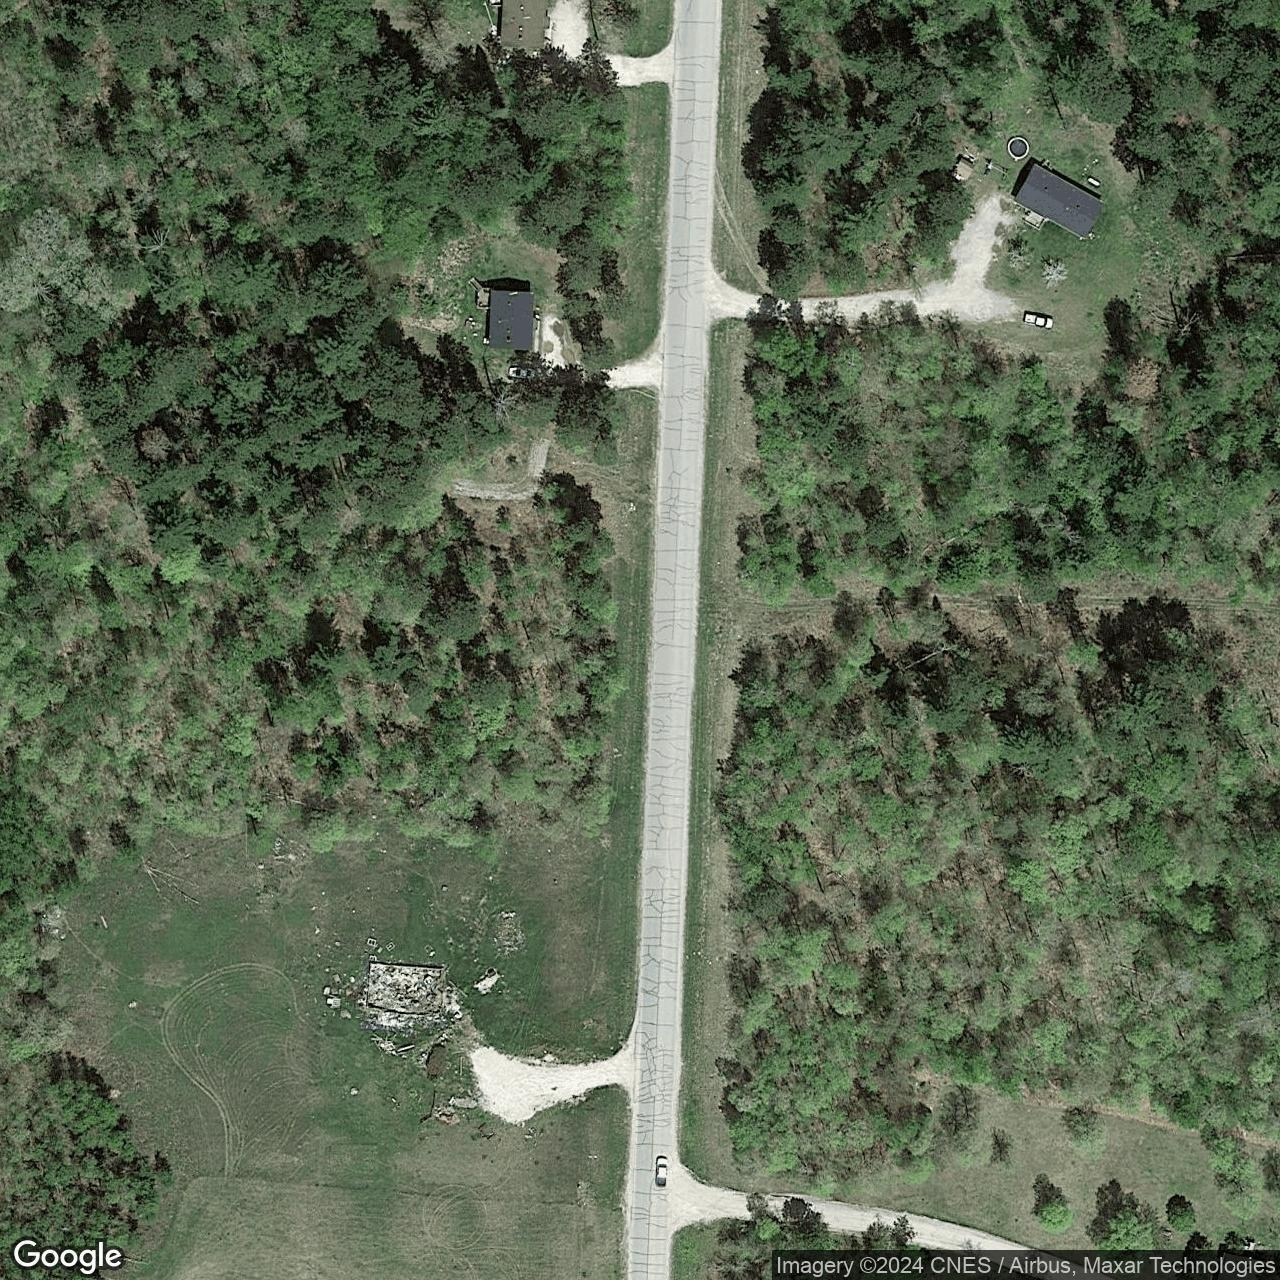House: (1013, 162, 1103, 240), (482, 288, 536, 353), (498, 1, 549, 49)
Propane: (1085, 173, 1103, 189)
